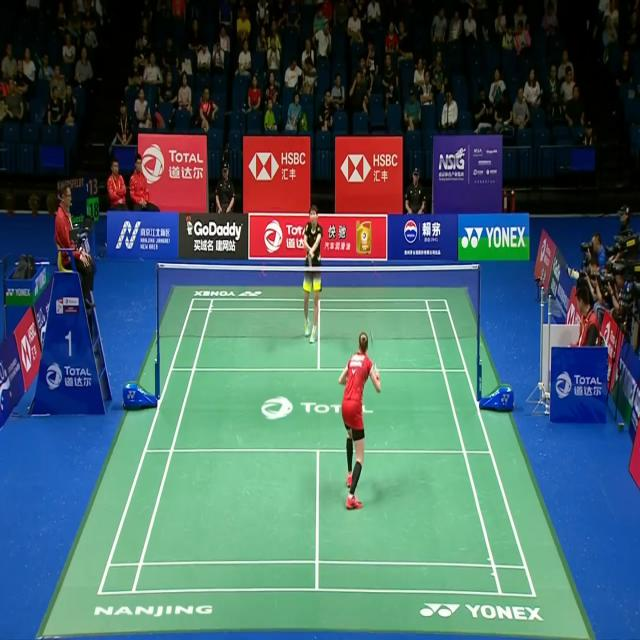Player1: (336, 326, 380, 513)
Player2: (301, 199, 329, 352)
